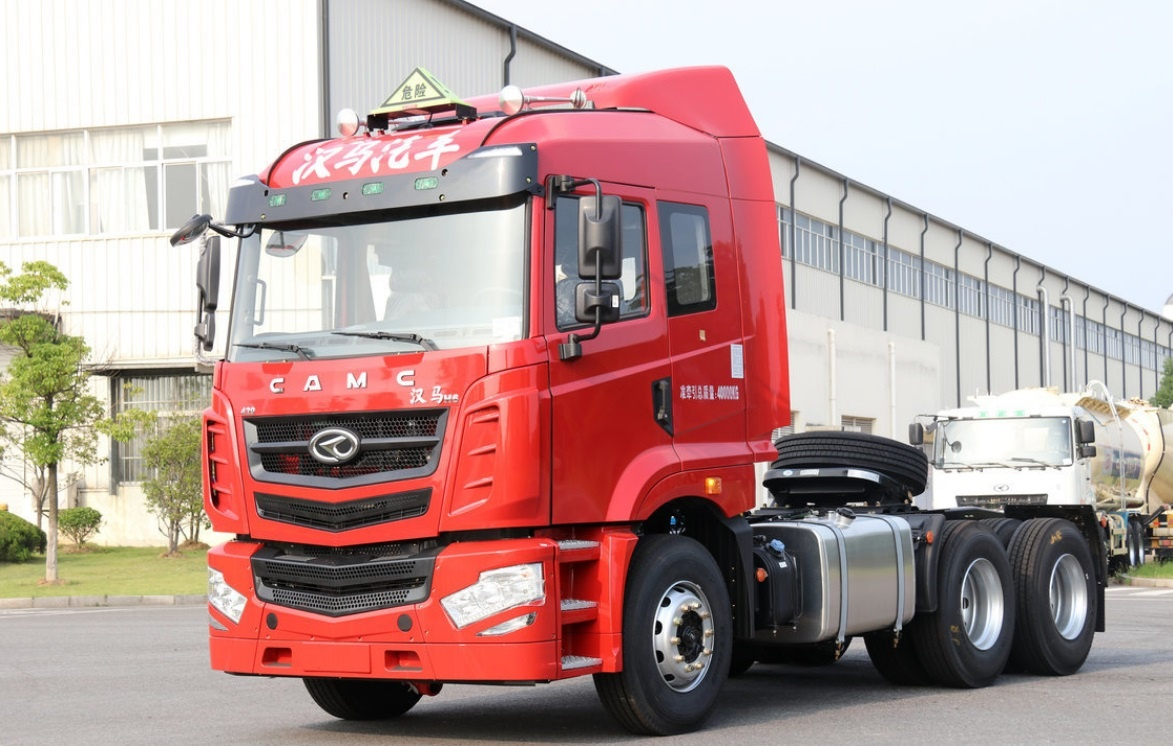heavy truck: (198, 57, 1111, 730)
